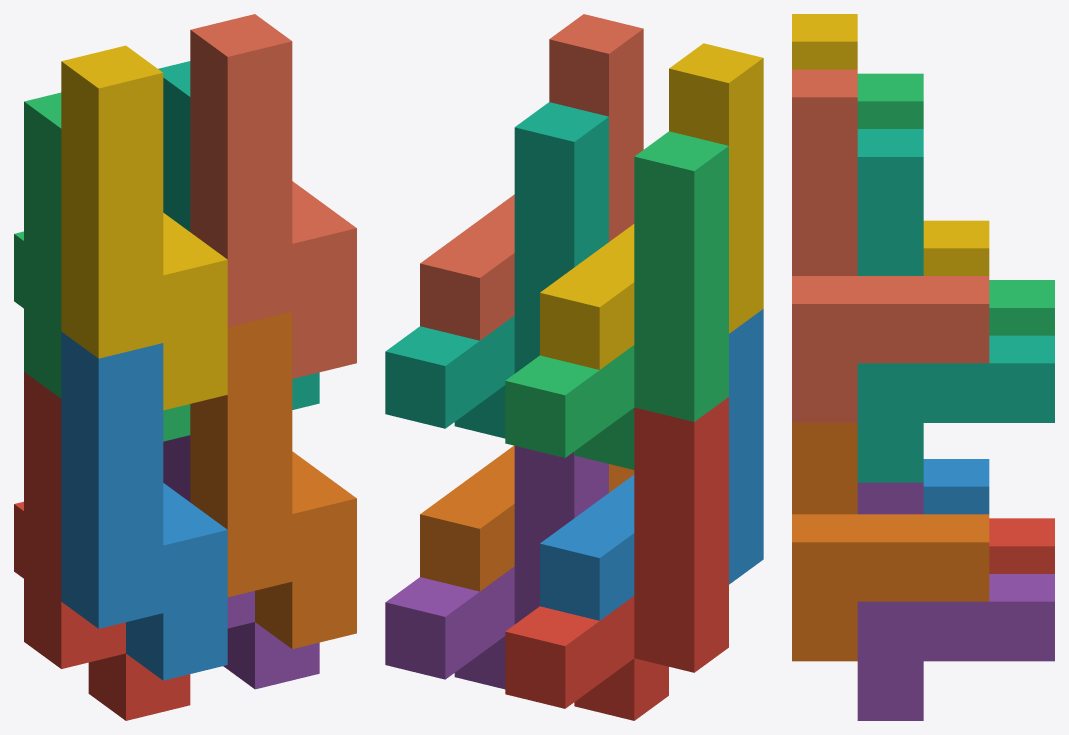
The model's file is tiling.obj.
3 renders of one model, left to right at view 1: azimuth 30°, elevation 25°; view 2: azimuth 150°, elevation 25°; view 3: azimuth 270°, elevation 25°, orthographic. The views are drawn at different scales.
Parts seen in each view (by area): view 1: copy_1_domain_4, copy_1_domain_2, copy_1_domain_8, copy_1_domain_6, copy_1_domain_1, copy_1_domain_3, copy_1_domain_5, copy_1_domain_7; view 2: copy_1_domain_3, copy_1_domain_1, copy_1_domain_7, copy_1_domain_4, copy_1_domain_8, copy_1_domain_5, copy_1_domain_2, copy_1_domain_6; view 3: copy_1_domain_8, copy_1_domain_7, copy_1_domain_6, copy_1_domain_5, copy_1_domain_3, copy_1_domain_4, copy_1_domain_2, copy_1_domain_1.
Part boxes in pixels (x1=…): copy_1_domain_4: x1=61, y1=45, x2=227, y2=410; copy_1_domain_2: x1=61, y1=331, x2=227, y2=680; copy_1_domain_8: x1=190, y1=14, x2=356, y2=378; copy_1_domain_6: x1=190, y1=311, x2=356, y2=648; copy_1_domain_1: x1=14, y1=372, x2=190, y2=720; copy_1_domain_3: x1=14, y1=92, x2=190, y2=441; copy_1_domain_5: x1=163, y1=435, x2=319, y2=689; copy_1_domain_7: x1=158, y1=61, x2=319, y2=409; copy_1_domain_3: x1=505, y1=131, x2=728, y2=469; copy_1_domain_1: x1=505, y1=397, x2=728, y2=720; copy_1_domain_7: x1=385, y1=102, x2=608, y2=438; copy_1_domain_4: x1=540, y1=43, x2=763, y2=369; copy_1_domain_8: x1=420, y1=14, x2=643, y2=340; copy_1_domain_5: x1=385, y1=446, x2=608, y2=689; copy_1_domain_2: x1=540, y1=309, x2=763, y2=620; copy_1_domain_6: x1=420, y1=445, x2=634, y2=591; copy_1_domain_8: x1=792, y1=69, x2=989, y2=422; copy_1_domain_7: x1=857, y1=129, x2=1054, y2=482; copy_1_domain_6: x1=792, y1=423, x2=989, y2=661; copy_1_domain_5: x1=857, y1=482, x2=1054, y2=720; copy_1_domain_3: x1=857, y1=73, x2=1054, y2=335; copy_1_domain_4: x1=792, y1=14, x2=989, y2=275; copy_1_domain_2: x1=923, y1=459, x2=989, y2=514; copy_1_domain_1: x1=989, y1=518, x2=1054, y2=573.
Bounding box in the file's own units: 4 × 10 × 4.
